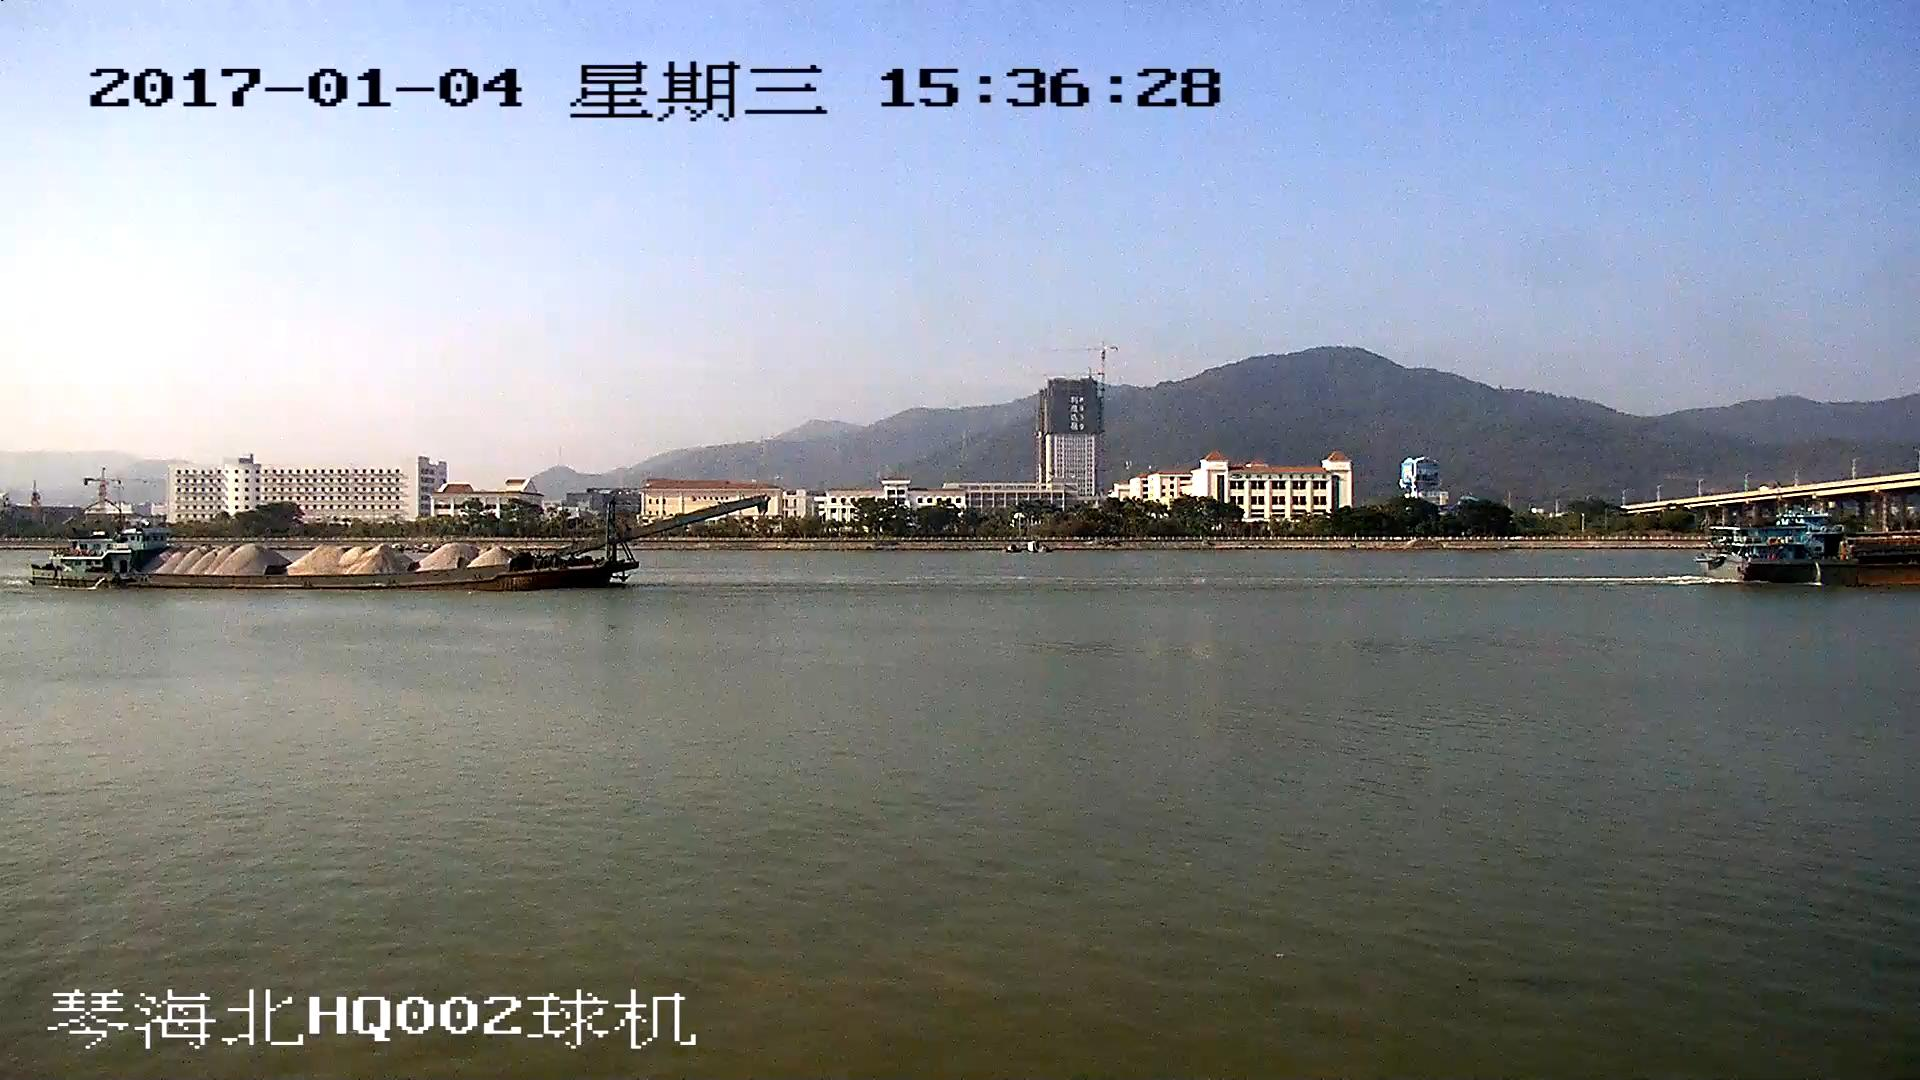bulk cargo carrier: (1708, 526, 1920, 588)
ore carrier: (31, 495, 765, 589)
